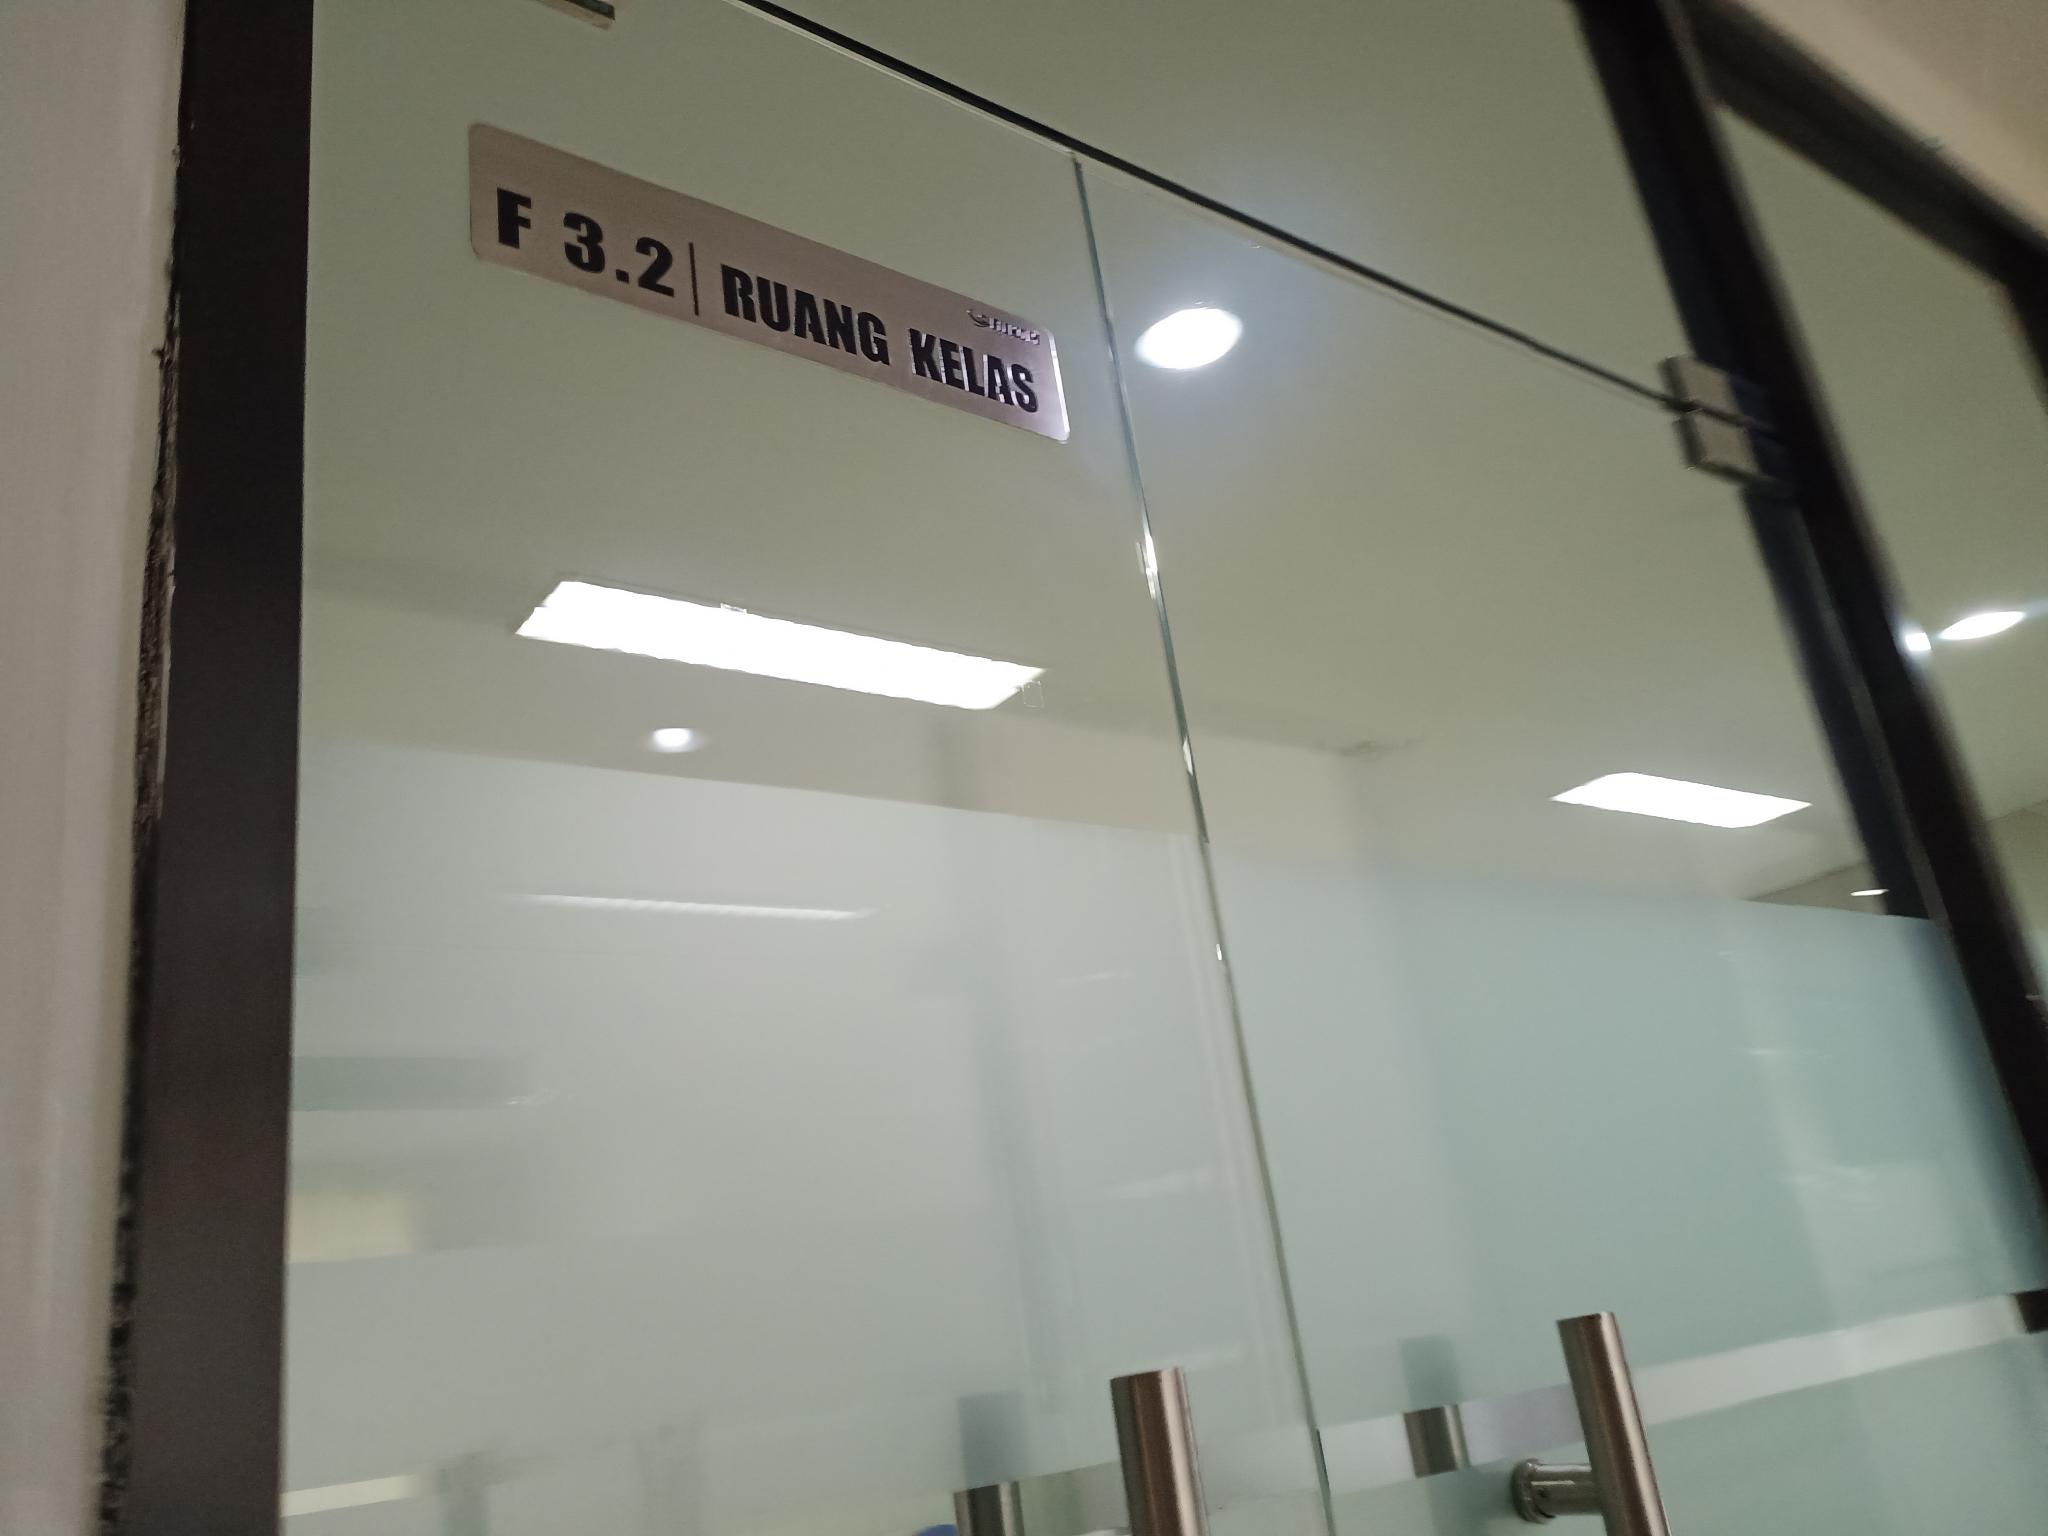plate: (466, 113, 1069, 445)
